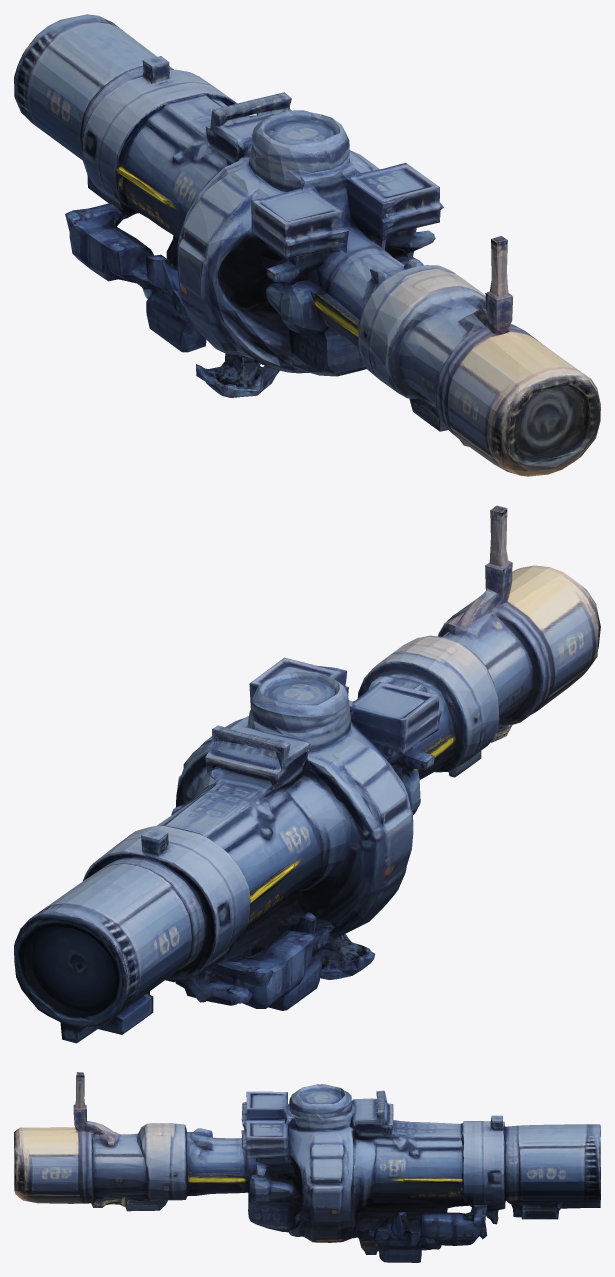
Rendered from Lineman Hauler.glb.
The picture shows the model from 3 angles, top to bottom: view 1: azimuth 30°, elevation 25°; view 2: azimuth 150°, elevation 25°; view 3: azimuth 270°, elevation 25°; orthographic projection. The views are drawn at different scales.
Visible parts, largest first — view 1: world; view 2: world; view 3: world.
Part boxes in pixels (x1=…): world: x1=14, y1=14, x2=600, y2=476; world: x1=14, y1=505, x2=600, y2=1043; world: x1=14, y1=1072, x2=600, y2=1262.
Size of the model in its own units: 0.2553 by 0.3327 by 1.
1 material, 1 textured.
